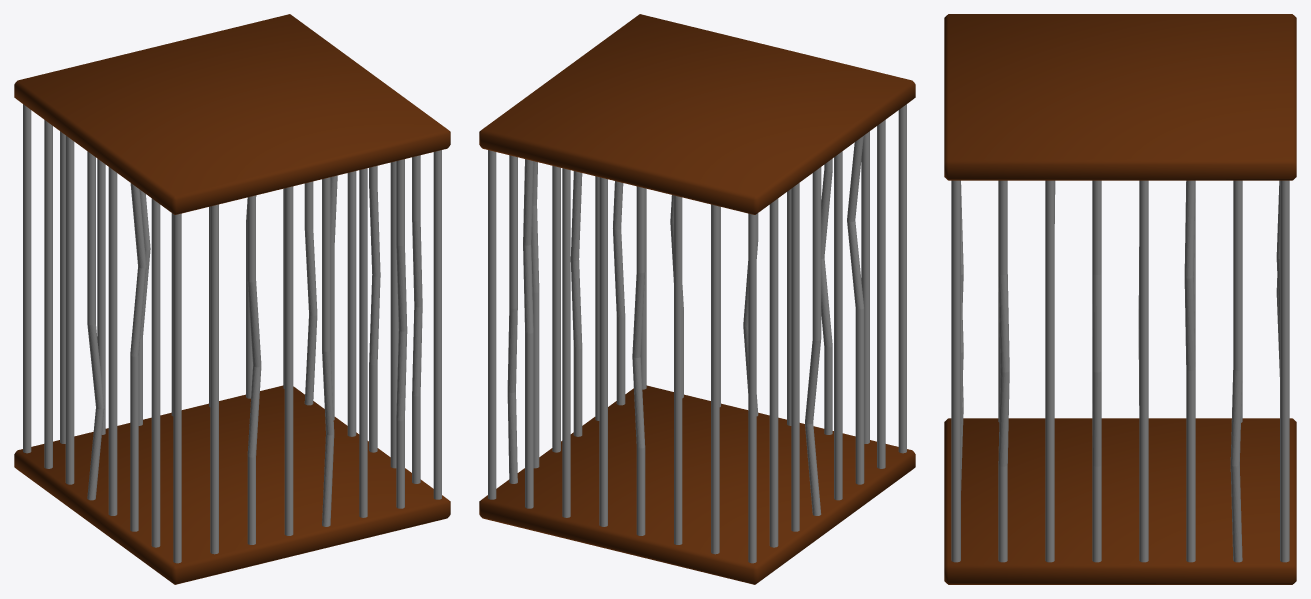
File: ghostCage.gltf
3 views of the same model, side by side, from view 1: azimuth 30°, elevation 25°; view 2: azimuth 150°, elevation 25°; view 3: azimuth 270°, elevation 25° (orthographic). The views are drawn at different scales.
Parts seen in each view (by area): view 1: Cylinder; view 2: Cylinder; view 3: Cylinder.
Boxes of the visible parts, x1,y1,x2,y2 form: Cylinder: [14, 14, 450, 584]; Cylinder: [479, 14, 915, 584]; Cylinder: [944, 14, 1296, 584].
Size of the model in its own units: 1.5 by 2 by 1.5.
